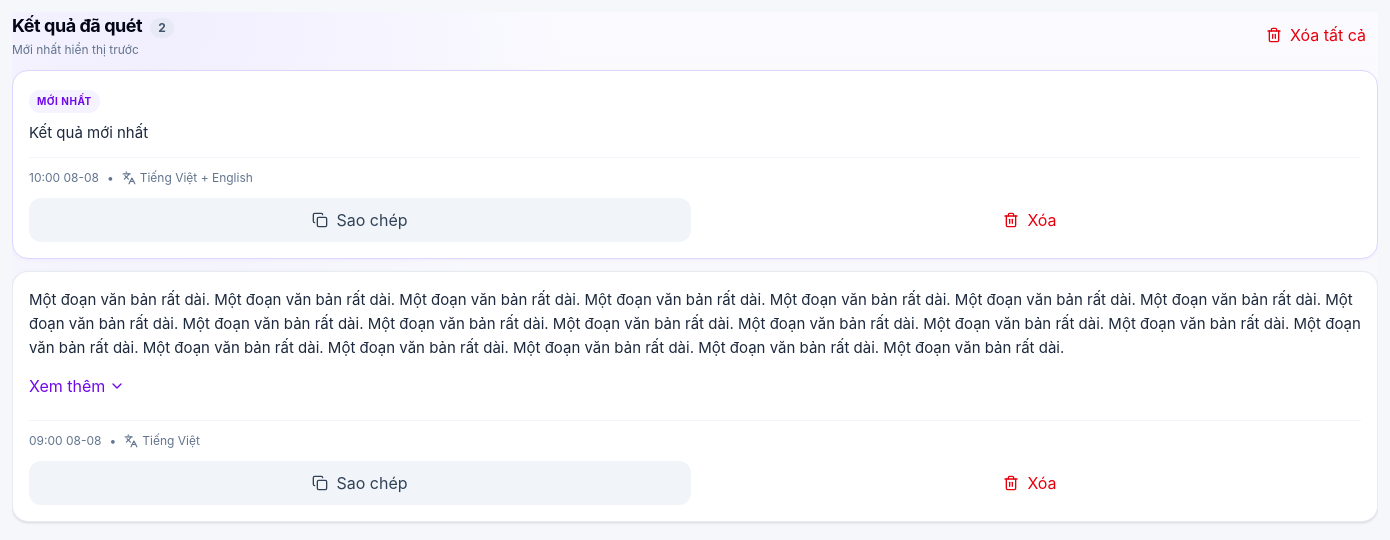
Test: ScanHistory › shows count, metadata and expands long text
The width and height of the screenshot is (1390, 540).
Check: the text named "2 kết quả" is shown, box [150,18,174,38]
Check: the text "Mới nhất" is shown, box [29,90,100,113]
Click the button "Xem thêm" at (77, 386), box [29,364,125,408]
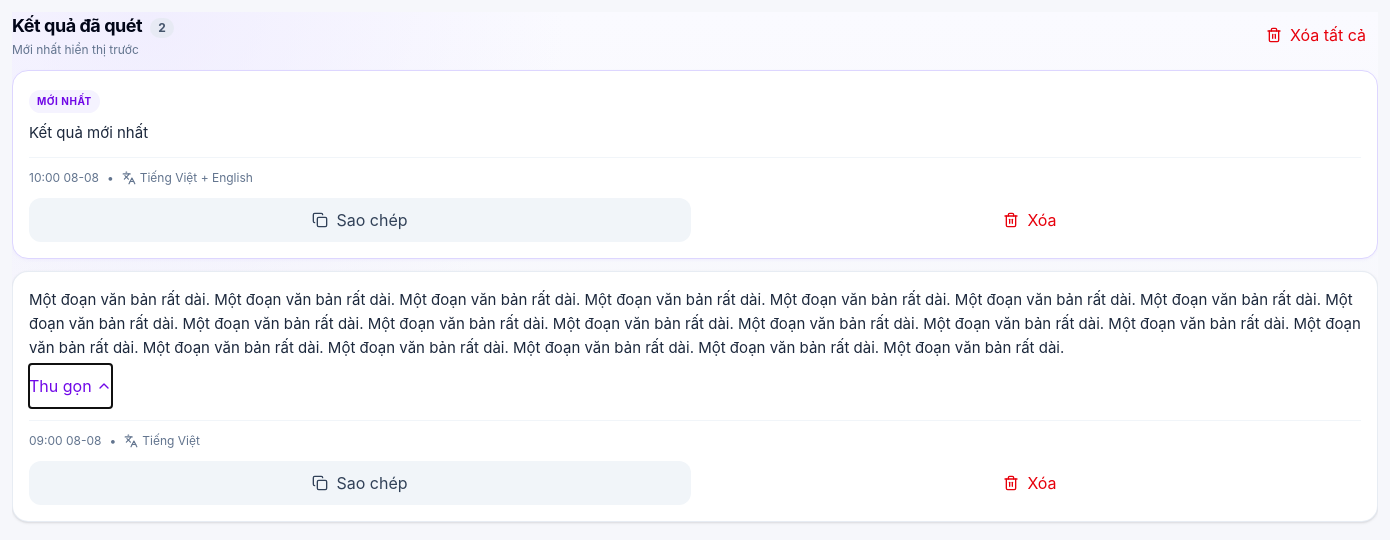
Check: the button "Thu gọn" is expanded, box [29,364,112,408]
